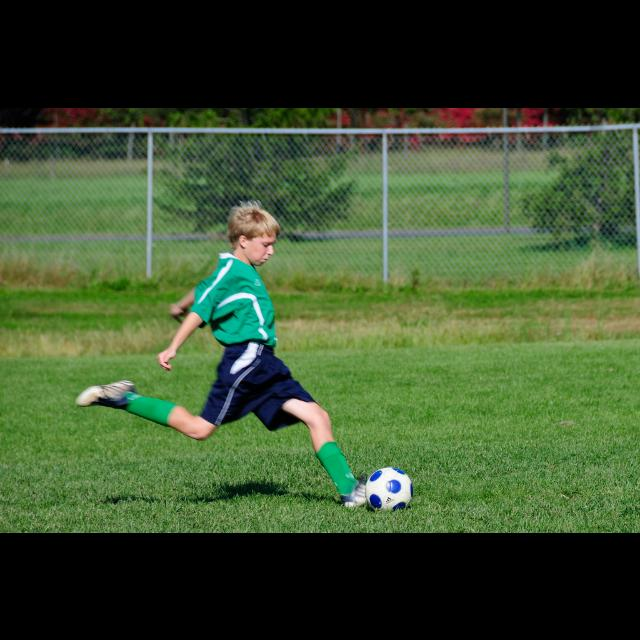Football: (362, 464, 414, 512)
